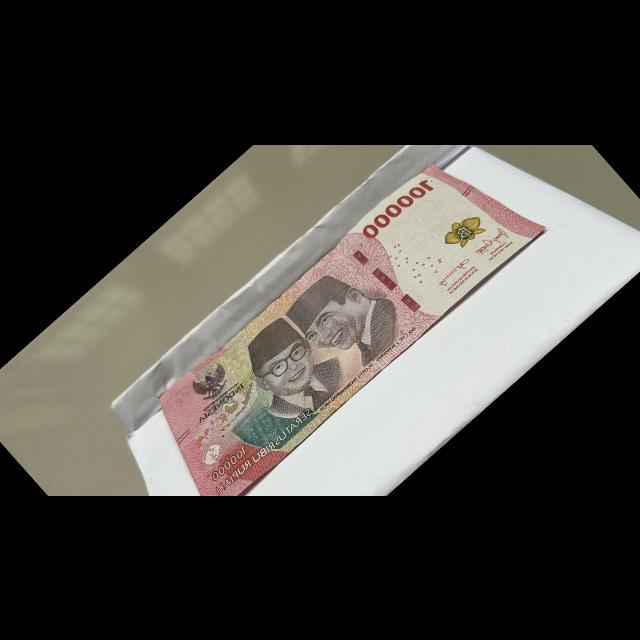Palsu-100k: (151, 126, 552, 496)
Tinta-Palsu-100k: (434, 203, 491, 257)
